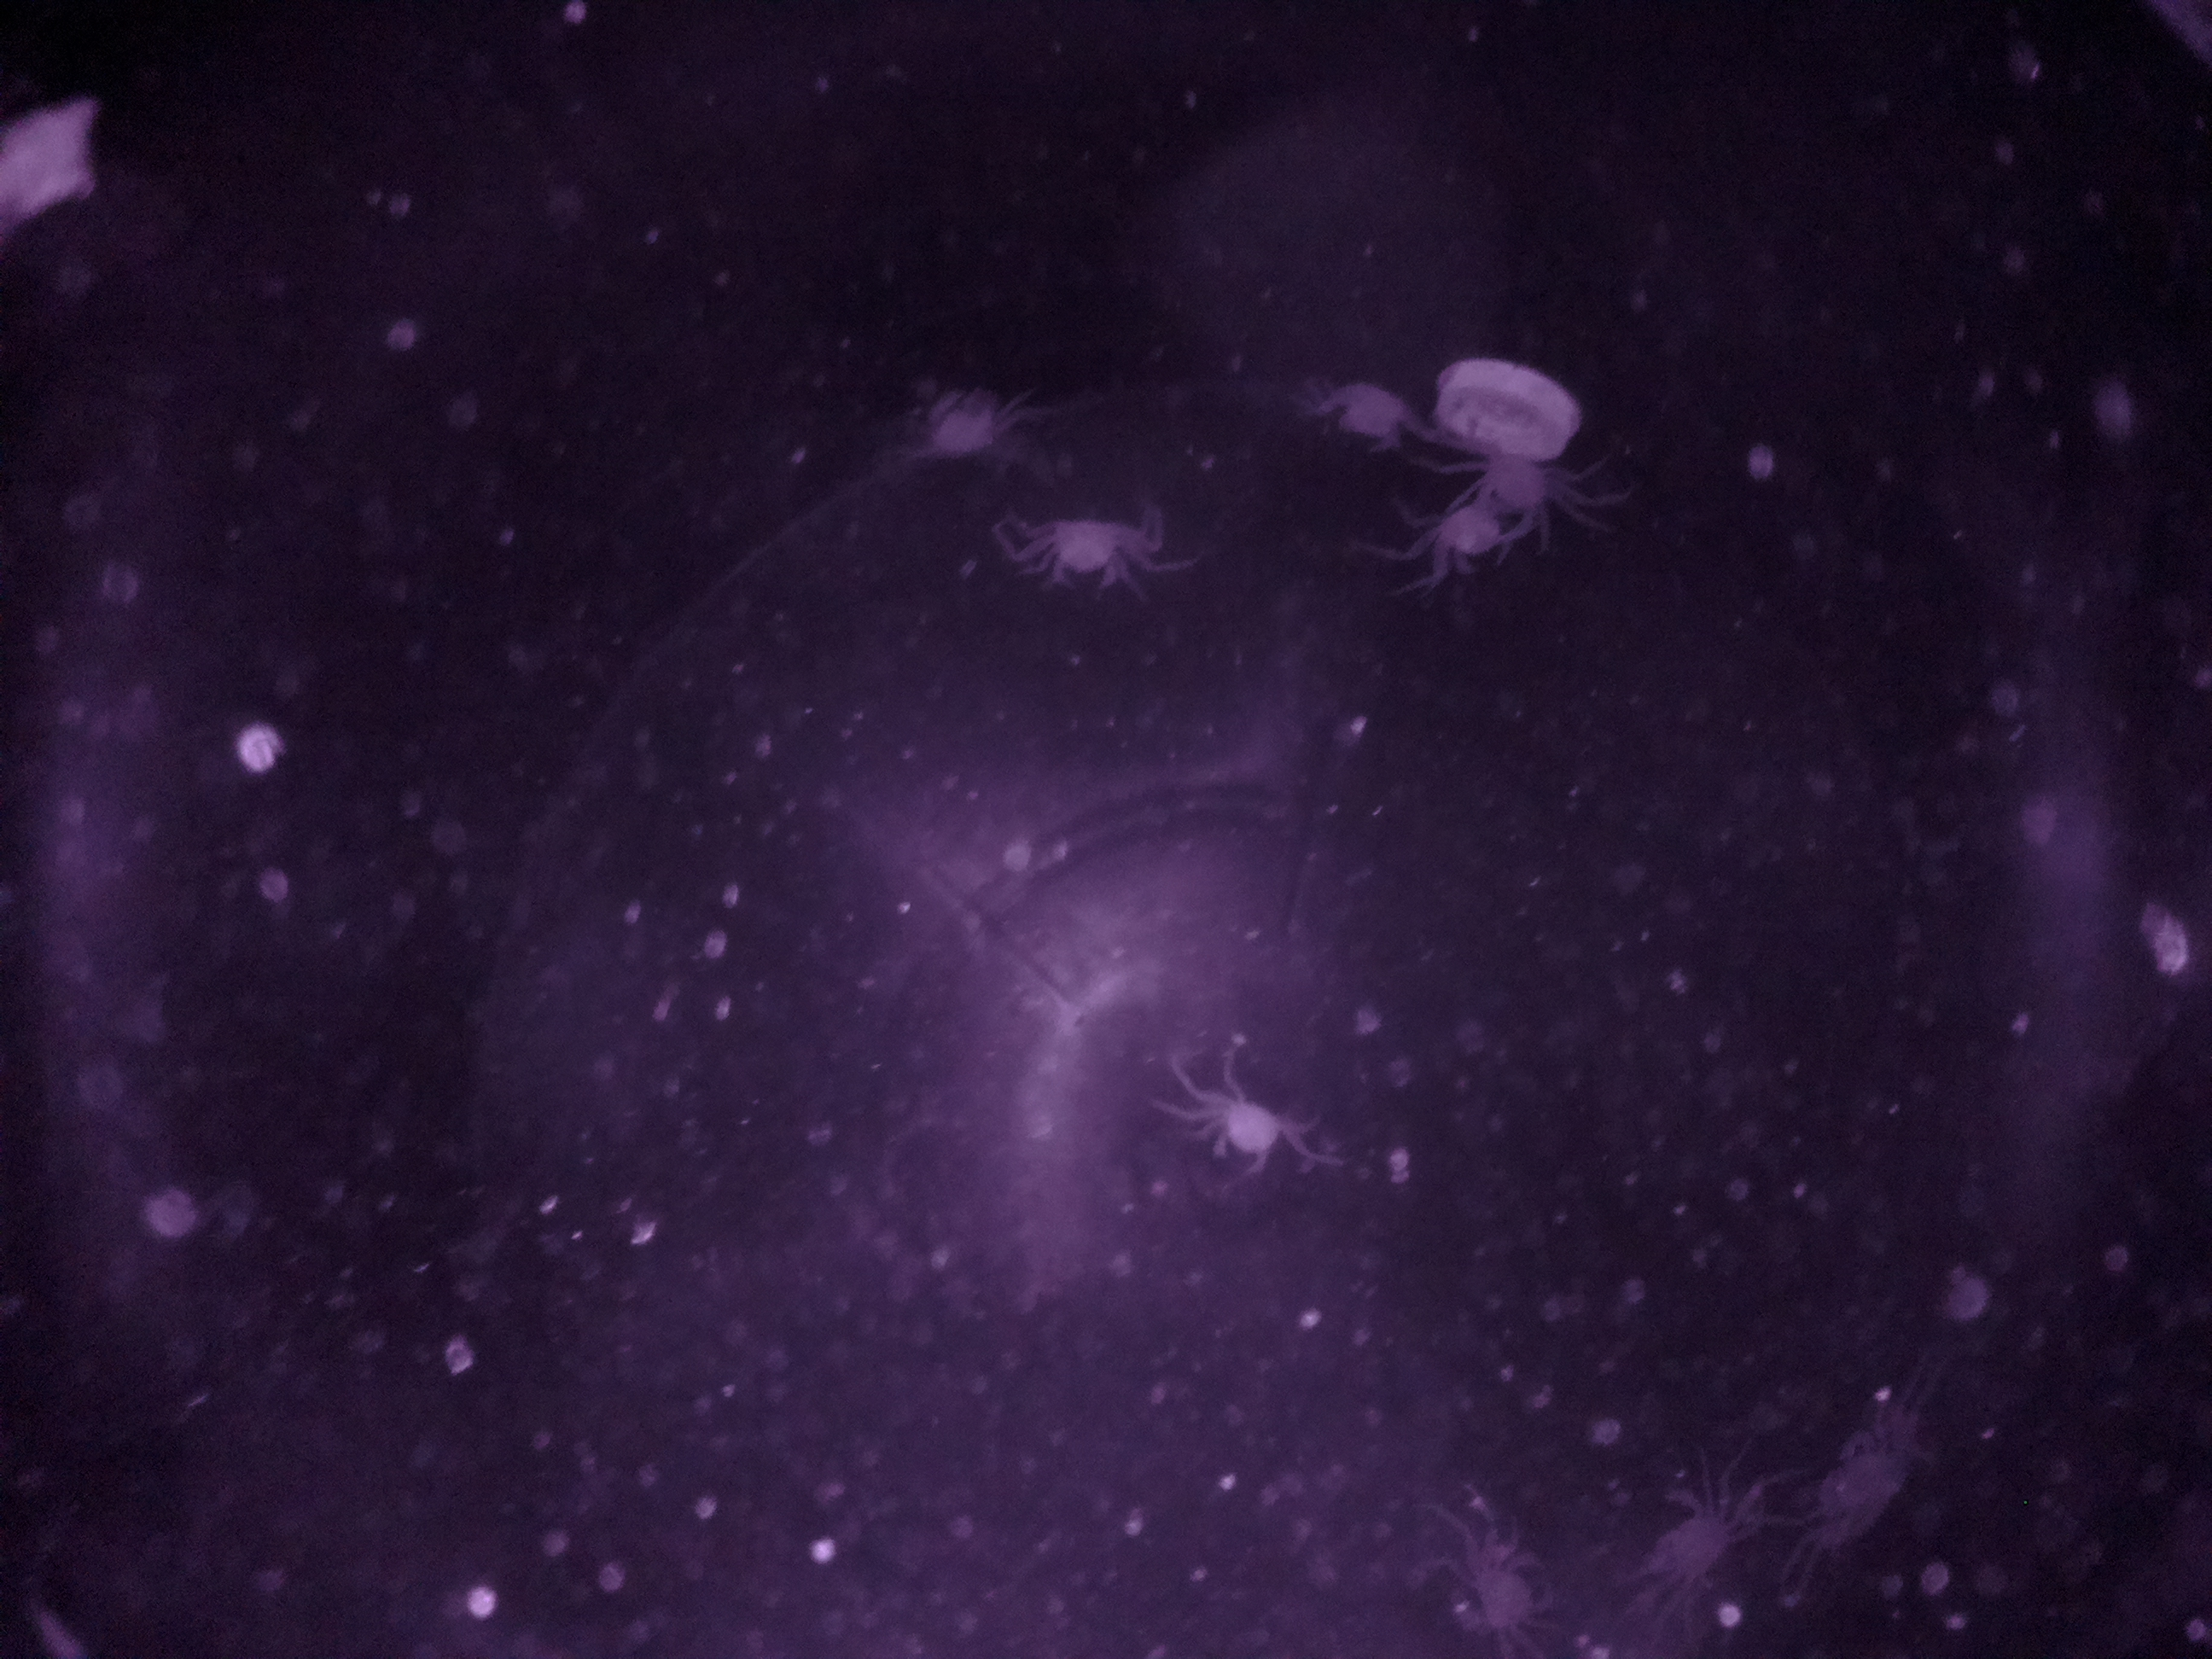Crab: (1615, 1469, 1768, 1593), (1449, 1523, 1571, 1643), (1195, 1065, 1299, 1197), (1416, 488, 1531, 596), (1022, 504, 1143, 605)
